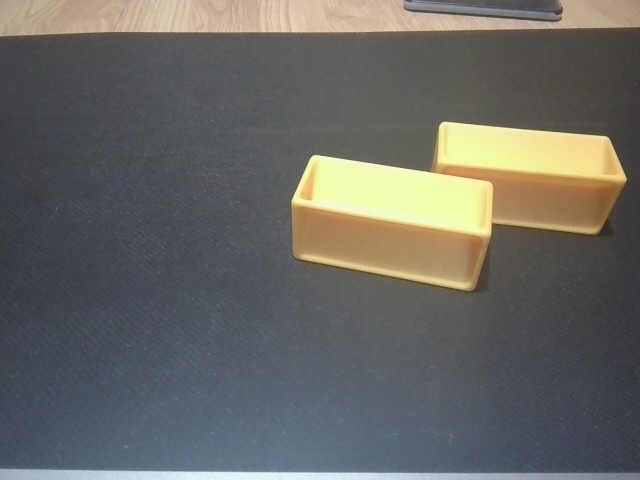YellowSample: (284, 151, 495, 298), (430, 119, 629, 243)
